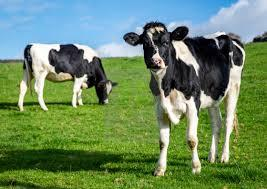cow: (123, 22, 245, 174), (18, 42, 119, 112)
